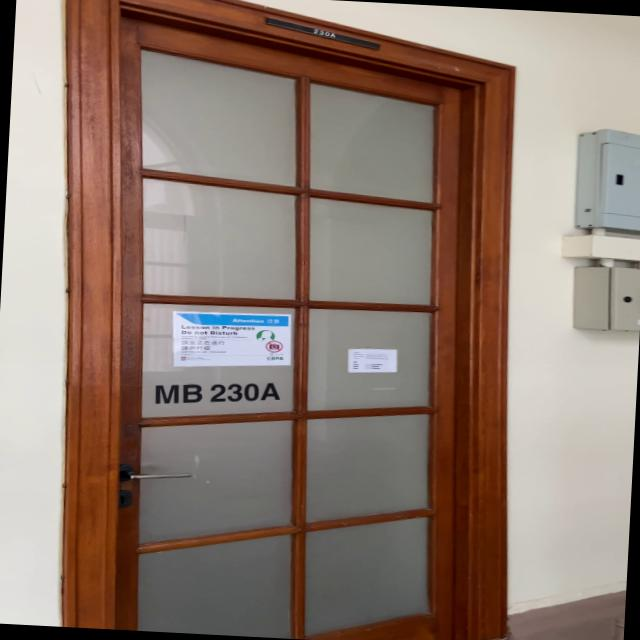room230A: (263, 14, 382, 51)
room230AWindow: (150, 372, 284, 413)
